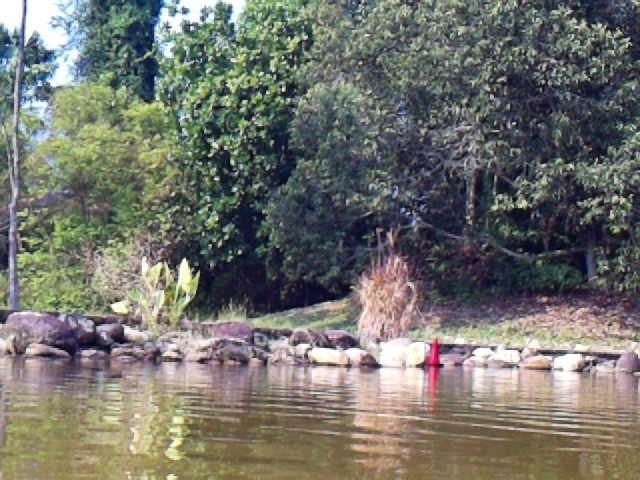obstacle: (425, 339, 444, 368)
